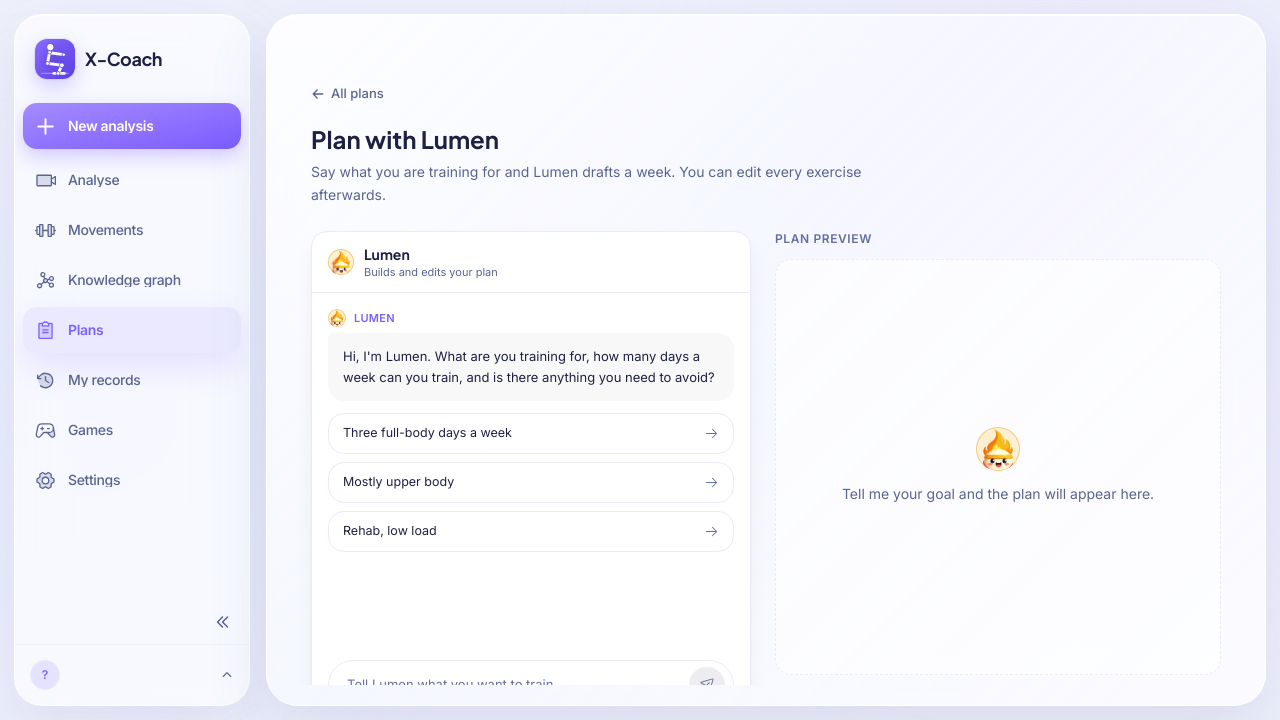
Test: PlanBuilder — what the drafted plan trains › has no coverage summary before a plan exists, and one after
Expected: the text "Tell me your goal and the plan will appear here." is shown, x1=842 y1=483 x2=1154 y2=506
Expected: the heading "what this plan trains" is not shown
Step 1. Click the button "Three full-body days a week" → [427, 433], box x1=328 y1=413 x2=734 y2=454
(page scrolled)
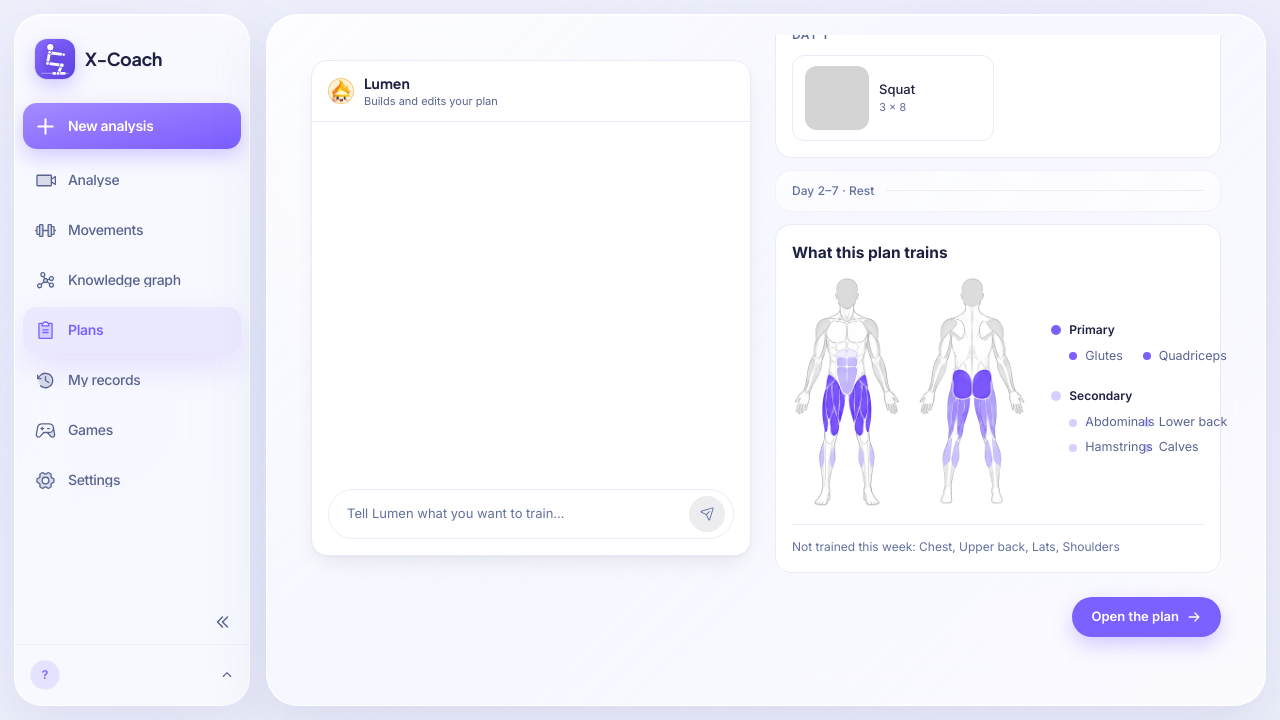
Result: the list item "Quadriceps" is shown at x1=1143 y1=347 x2=1204 y2=365
Result: the text "Not trained this week: Chest, Upper back, Lats, Shoulders" is shown at x1=792 y1=524 x2=1204 y2=556
